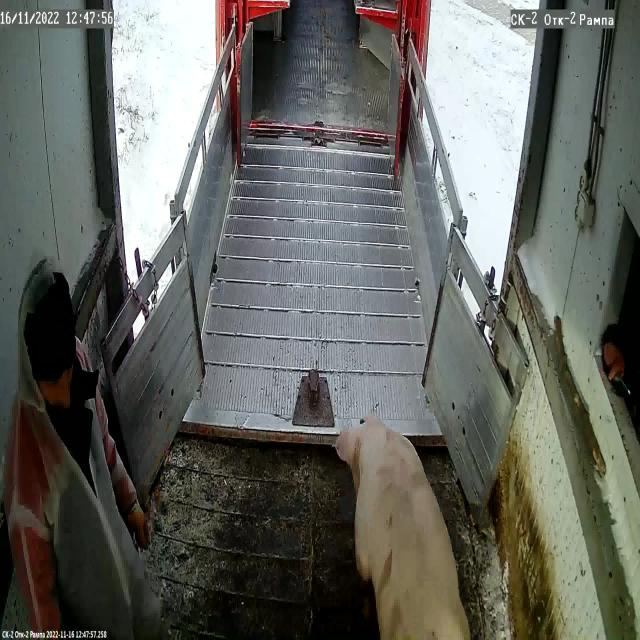pig: (334, 415, 472, 640)
